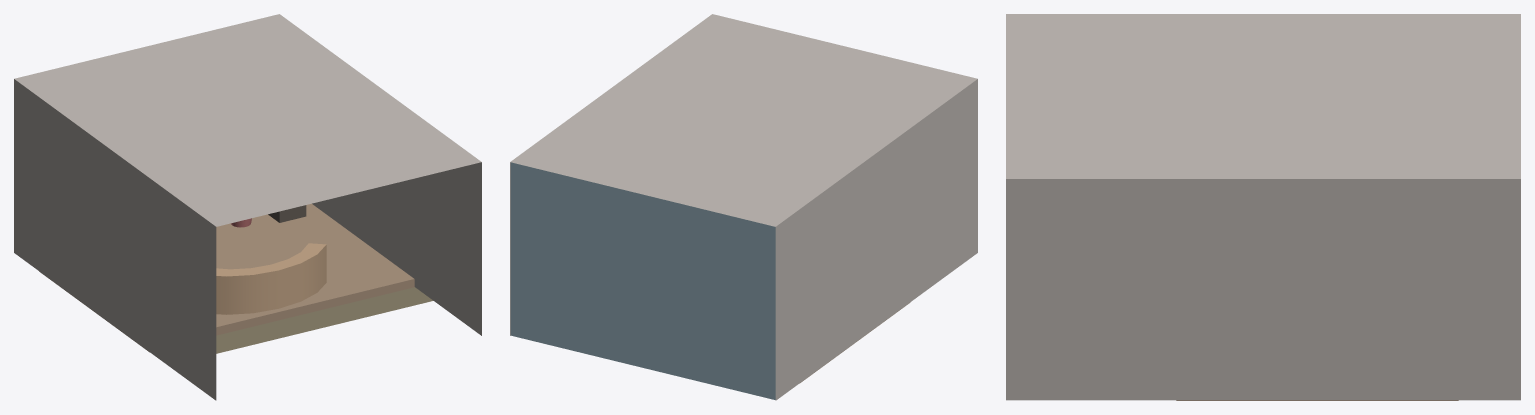
The model's file is stage_1105.fbx.
3 views of the same model, side by side, from view 1: azimuth 30°, elevation 25°; view 2: azimuth 150°, elevation 25°; view 3: azimuth 270°, elevation 25° (orthographic). The views are drawn at different scales.
Visible parts, largest first — view 1: stage:tenjou, stage:stage, stage:desk, stage:floor; view 2: stage:tenjou, stage:haikei; view 3: stage:tenjou.
Part boxes in pixels (x1,y1,x2,y2): stage:tenjou: (14, 14, 481, 400); stage:stage: (39, 203, 414, 352); stage:desk: (216, 243, 326, 314); stage:floor: (216, 287, 433, 353); stage:tenjou: (510, 14, 977, 400); stage:haikei: (510, 162, 775, 399); stage:tenjou: (1006, 14, 1520, 400).
Bounding box in the file's own units: 17.91 × 11.27 × 23.64.
